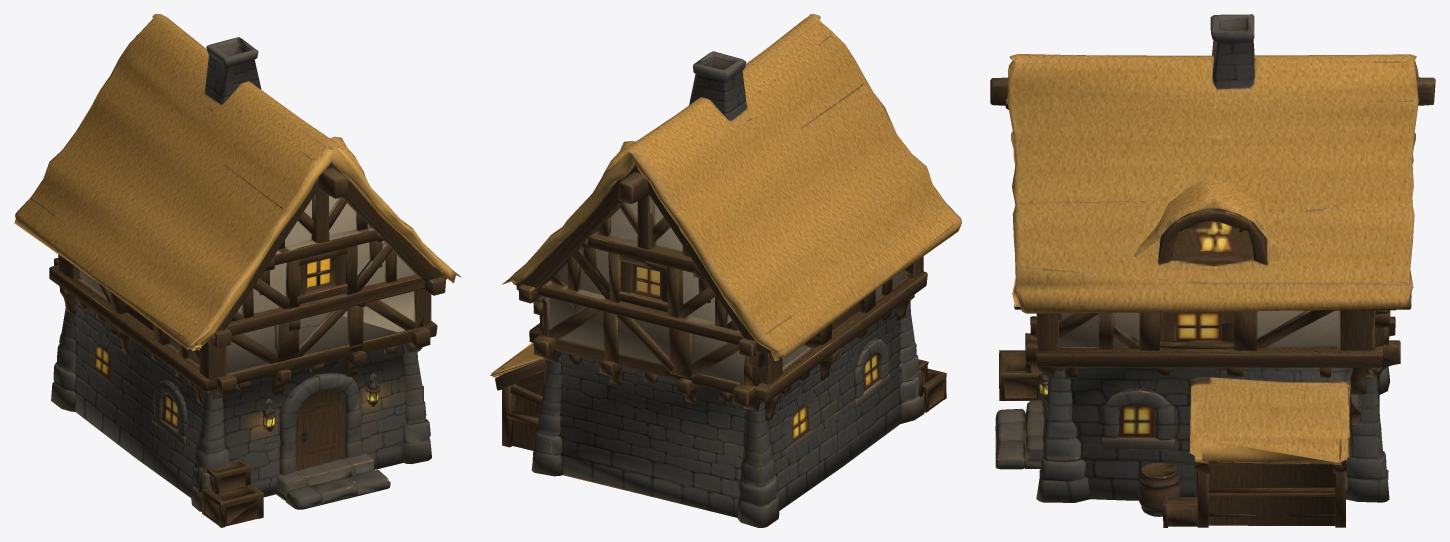
File: Cottage.glb
3 views of the same model, side by side, from view 1: azimuth 30°, elevation 25°; view 2: azimuth 150°, elevation 25°; view 3: azimuth 270°, elevation 25° (orthographic). The views are drawn at different scales.
Parts seen in each view (by area): view 1: Mesh_0; view 2: Mesh_0; view 3: Mesh_0.
Boxes of the visible parts, left/top/right/bottom form: Mesh_0: left=14, top=14, right=461, bottom=527; Mesh_0: left=490, top=14, right=961, bottom=527; Mesh_0: left=990, top=14, right=1435, bottom=527.
Size of the model in its own units: 0.8379 by 0.9526 by 0.918.
Materials: 1 (1 with a texture image).
